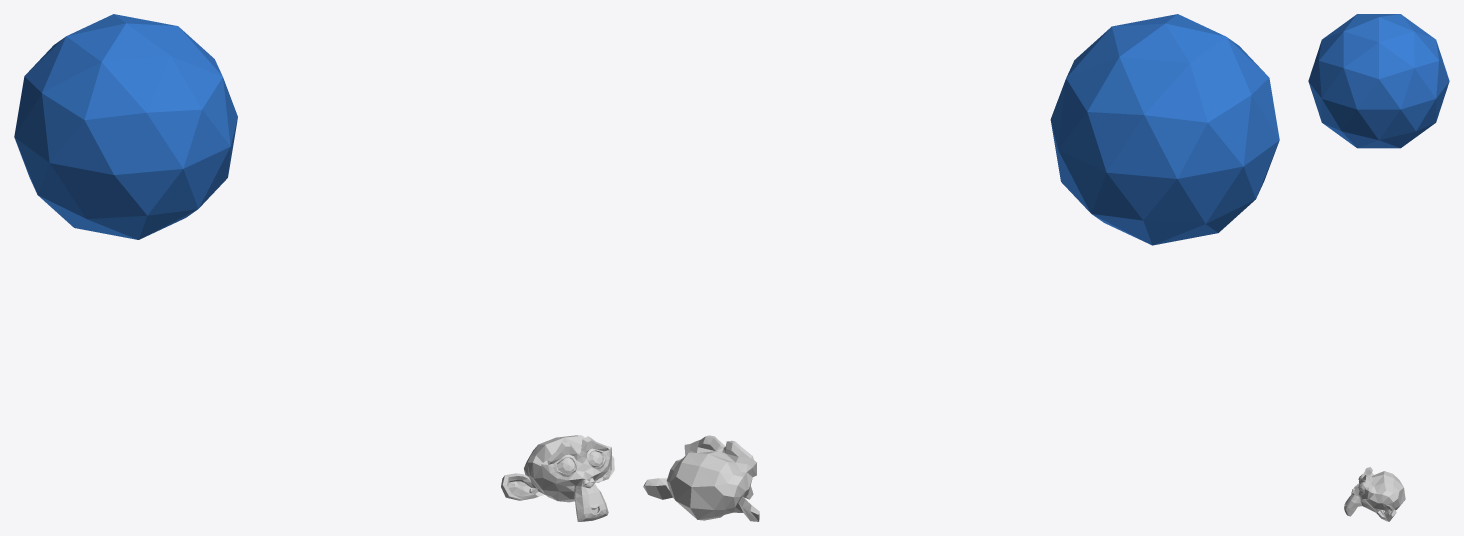
3 views of the same model, side by side, from view 1: azimuth 30°, elevation 25°; view 2: azimuth 150°, elevation 25°; view 3: azimuth 270°, elevation 25° (orthographic). The views are drawn at different scales.
Visible parts, largest first — view 1: Icosphere, Suzanne; view 2: Icosphere, Suzanne; view 3: Icosphere, Suzanne.
Boxes of the visible parts, x1=… form: Icosphere: x1=14, y1=14, x2=237, y2=239; Suzanne: x1=501, y1=435, x2=614, y2=521; Icosphere: x1=1050, y1=14, x2=1279, y2=245; Suzanne: x1=643, y1=435, x2=759, y2=521; Icosphere: x1=1308, y1=14, x2=1449, y2=148; Suzanne: x1=1344, y1=467, x2=1405, y2=521.
Size of the model in its own units: 5.98 by 2 by 5.67.
